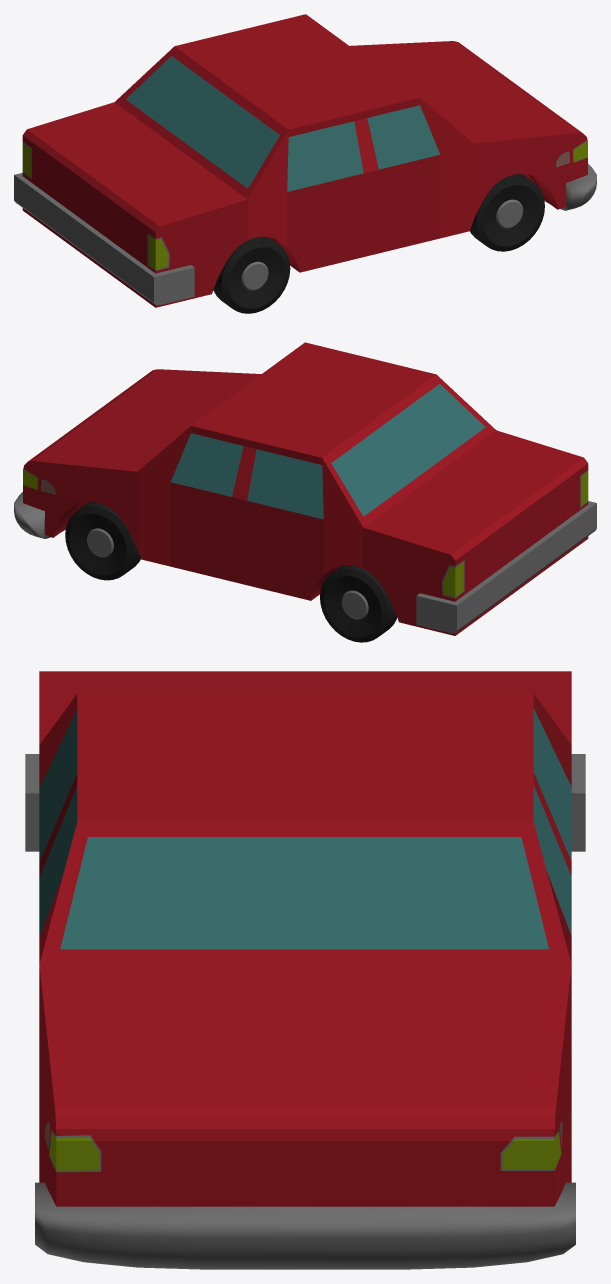
File: auto rojo.fbx
3 views of the same model, one above another, from view 1: azimuth 30°, elevation 25°; view 2: azimuth 150°, elevation 25°; view 3: azimuth 270°, elevation 25° (orthographic). The views are drawn at different scales.
Visible parts, largest first — view 1: Cube, Cylinder, Cube.002; view 2: Cube, Cylinder, Cube.002; view 3: Cube, Cube.002.
Part boxes in pixels (<box>): Cube: <box>22,14,587,307</box>; Cylinder: <box>213,174,544,313</box>; Cube.002: <box>14,164,596,305</box>; Cube: <box>23,342,588,635</box>; Cylinder: <box>65,502,397,642</box>; Cube.002: <box>14,492,596,633</box>; Cube: <box>39,671,571,1206</box>; Cube.002: <box>25,754,585,1269</box>.
Size of the model in its own units: 396 by 211 by 140.
